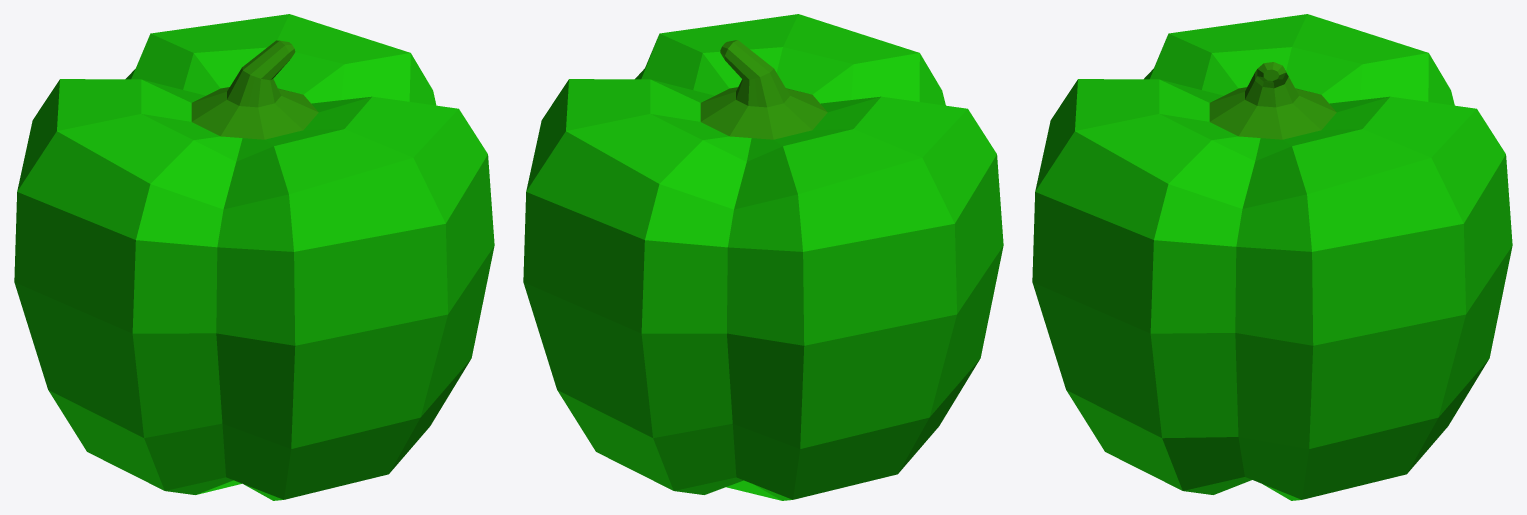
The model's file is pepperfruit05.gltf.
The picture shows the model from 3 angles, left to right: view 1: azimuth 30°, elevation 25°; view 2: azimuth 150°, elevation 25°; view 3: azimuth 270°, elevation 25°; orthographic projection.
Visible parts, largest first — view 1: Cylinder.002; view 2: Cylinder.002; view 3: Cylinder.002.
Part boxes in pixels (left/top/right/bottom): Cylinder.002: left=14, top=14, right=494, bottom=500; Cylinder.002: left=523, top=14, right=1003, bottom=500; Cylinder.002: left=1032, top=14, right=1512, bottom=500.
Size of the model in its own units: 0.0766 by 0.07 by 0.0754.
Materials: 1 (1 with a texture image).
